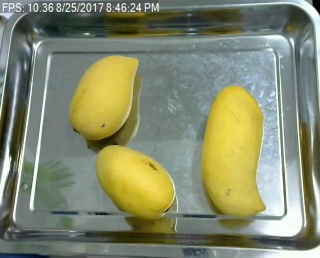Mango: (201, 84, 269, 218), (63, 50, 144, 139), (93, 142, 179, 219)
